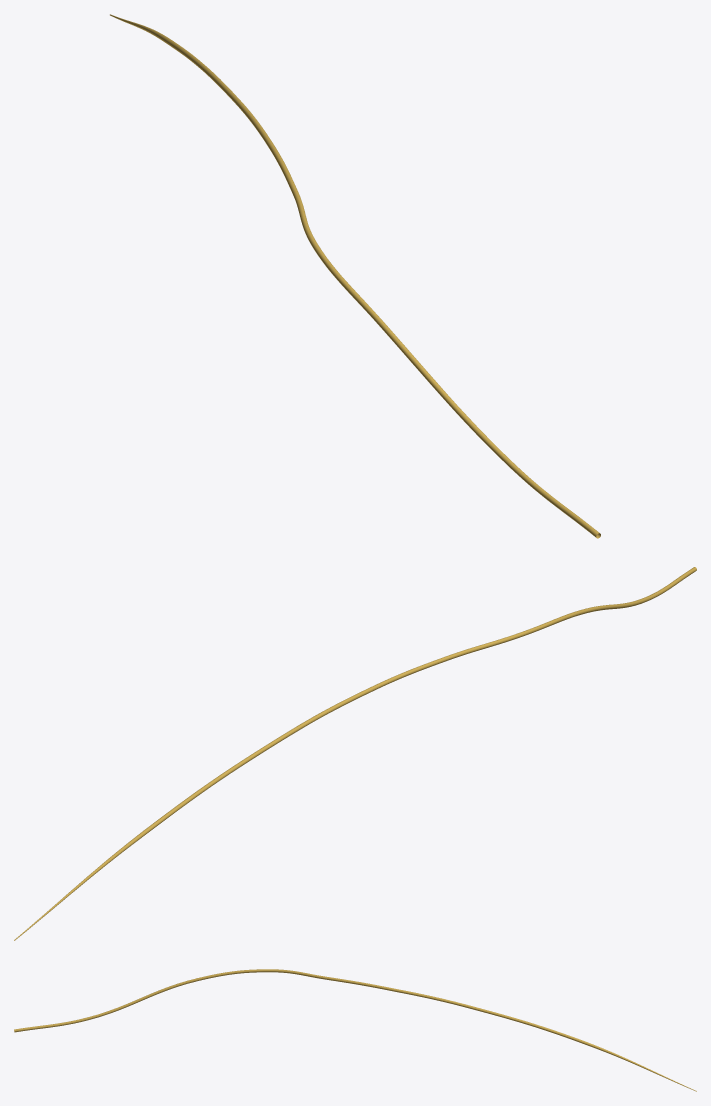
The picture shows the model from 3 angles, top to bottom: view 1: azimuth 30°, elevation 25°; view 2: azimuth 150°, elevation 25°; view 3: azimuth 270°, elevation 25°; orthographic projection. The views are drawn at different scales.
Visible parts, largest first — view 1: 左侧前臂内侧皮神经后支; view 2: 左侧前臂内侧皮神经后支; view 3: 左侧前臂内侧皮神经后支.
Boxes of the visible parts, box(x1,y1,x2,y2) form: 左侧前臂内侧皮神经后支: box(110, 14, 600, 538); 左侧前臂内侧皮神经后支: box(14, 567, 696, 940); 左侧前臂内侧皮神经后支: box(14, 969, 696, 1091).
Bounding box in the file's own units: 0.0656 × 0.0377 × 0.3342.
